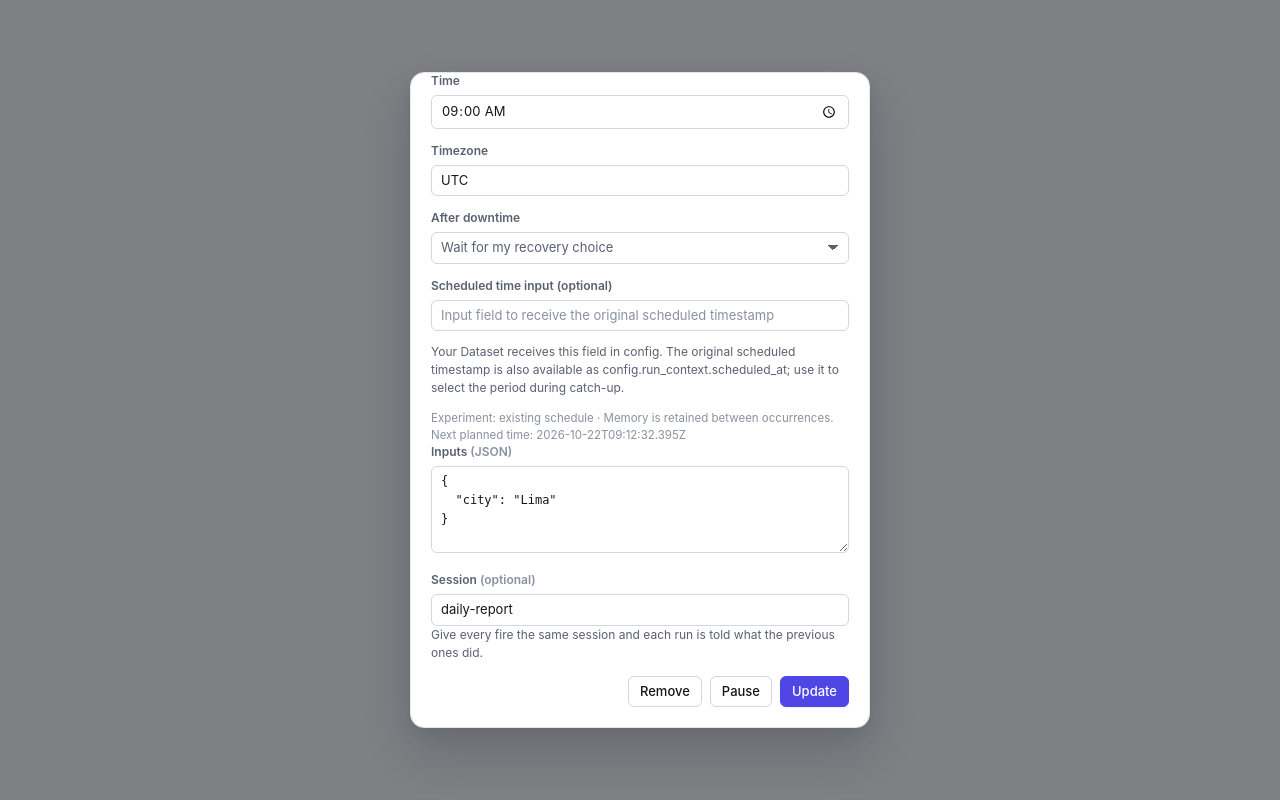
Test: SchedulePanel › removes one
The image size is (1280, 800).
(page scrolled)
Click the button "Remove": click(665, 691) [628,676,702,707]
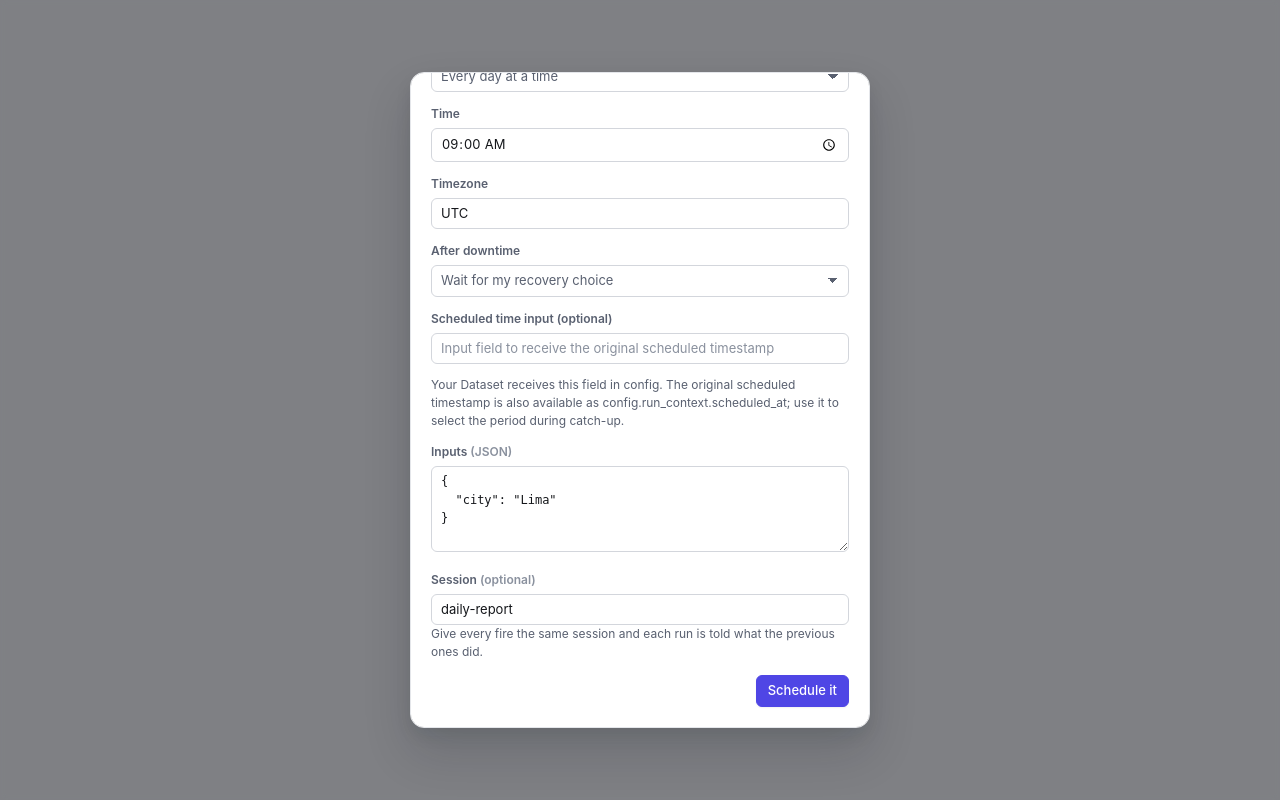
Expected: the button "Schedule it" is shown, [756,675,849,707]
